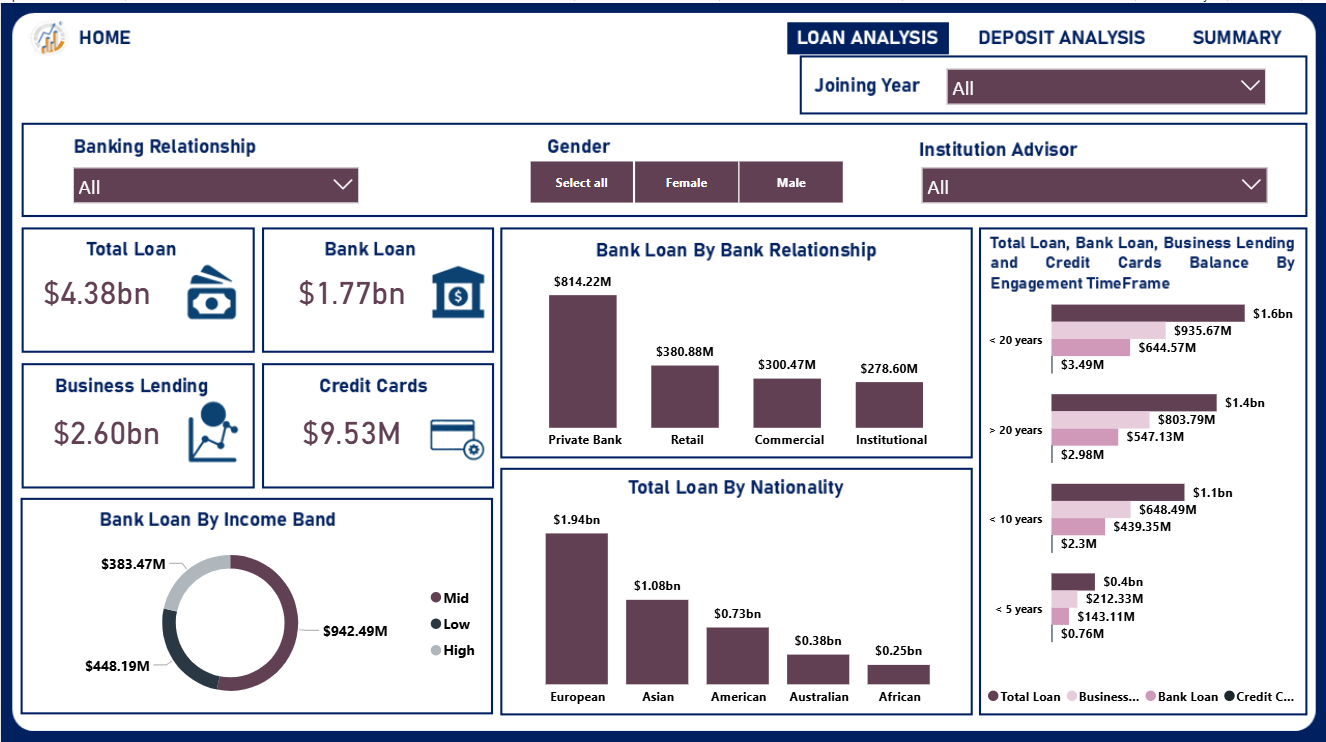

The page's visual inventory and layout, read from the dashboard file:
{"tool":"powerbi","page":{"name":"Loan Analysis","canvas":[1280,720],"ordinal":1},"visuals":[{"type":"slicer","fields":{"Values":["banking_clients_cleaned.Joined Bank.Variation.Date Hierarchy.Year"]},"box":[902.5,52.5,328.8,50],"z":0},{"type":"card","fields":{"Values":["Dax Measures.Bank Loan"]},"box":[260,233.8,156.2,88.8],"z":1000},{"type":"card","fields":{"Values":["Dax Measures.Business Lending"]},"box":[15,368.8,175,88.8],"z":2000},{"type":"card","fields":{"Values":["Dax Measures.Credit Cards"]},"box":[250,368.8,177.5,88.8],"z":3000},{"type":"card","fields":{"Values":["Dax Measures.Total Loan"]},"box":[15,233.8,156.2,88.8],"z":4000},{"type":"slicer","fields":{"Values":["banking-realtionships.Banking Relationship"]},"box":[58.8,148.8,296.2,50],"z":5000},{"type":"slicer","fields":{"Values":["gender.Gender"]},"box":[485,146.2,351.2,53.8],"z":6000},{"type":"slicer","fields":{"Values":["investment-advisiors.Investment Advisor"]},"box":[878.8,148.8,353.8,51.2],"z":7000},{"type":"donutChart","fields":{"Y":["Dax Measures.Bank Loan"],"Category":["banking_clients_cleaned.Income Band"]},"box":[23.8,508.8,447.5,178.8],"z":8000},{"type":"clusteredColumnChart","fields":{"Y":["Dax Measures.Bank Loan"],"Category":["banking-realtionships.Banking Relationship"]},"box":[485,243.8,453.8,196.2],"z":9000},{"type":"clusteredColumnChart","fields":{"Category":["banking_clients_cleaned.Nationality"],"Y":["Dax Measures.Total Loan"]},"box":[490,476.2,445,211.2],"z":10000},{"type":"clusteredBarChart","fields":{"Y":["Dax Measures.Total Loan","Dax Measures.Business Lending","Dax Measures.Bank Loan","Dax Measures.Credit Card Balance"],"Category":["banking_clients_cleaned.Engagement TimeFrame"]},"box":[947.5,243.8,311.2,443.8],"z":11000}]}

Visuals, with their boxes in screenshot pixels (x1, y1, x2, y2), scaled from the page's 1280x720 canvas onto the 1326x742 screenshot:
slicer - banking_clients_cleaned.Joined Bank.Variation.Date Hierarchy.Year: pyautogui.locateOnScreen(935, 54, 1276, 106)
card - Dax Measures.Bank Loan: pyautogui.locateOnScreen(269, 241, 431, 332)
card - Dax Measures.Business Lending: pyautogui.locateOnScreen(16, 380, 197, 472)
card - Dax Measures.Credit Cards: pyautogui.locateOnScreen(259, 380, 443, 472)
card - Dax Measures.Total Loan: pyautogui.locateOnScreen(16, 241, 177, 332)
slicer - banking-realtionships.Banking Relationship: pyautogui.locateOnScreen(61, 153, 368, 205)
slicer - gender.Gender: pyautogui.locateOnScreen(502, 151, 866, 206)
slicer - investment-advisiors.Investment Advisor: pyautogui.locateOnScreen(910, 153, 1277, 206)
donutChart - Dax Measures.Bank Loan x banking_clients_cleaned.Income Band: pyautogui.locateOnScreen(25, 524, 488, 709)
clusteredColumnChart - Dax Measures.Bank Loan x banking-realtionships.Banking Relationship: pyautogui.locateOnScreen(502, 251, 973, 453)
clusteredColumnChart - banking_clients_cleaned.Nationality x Dax Measures.Total Loan: pyautogui.locateOnScreen(508, 491, 969, 708)
clusteredBarChart - Dax Measures.Total Loan x Dax Measures.Business Lending: pyautogui.locateOnScreen(982, 251, 1304, 709)
